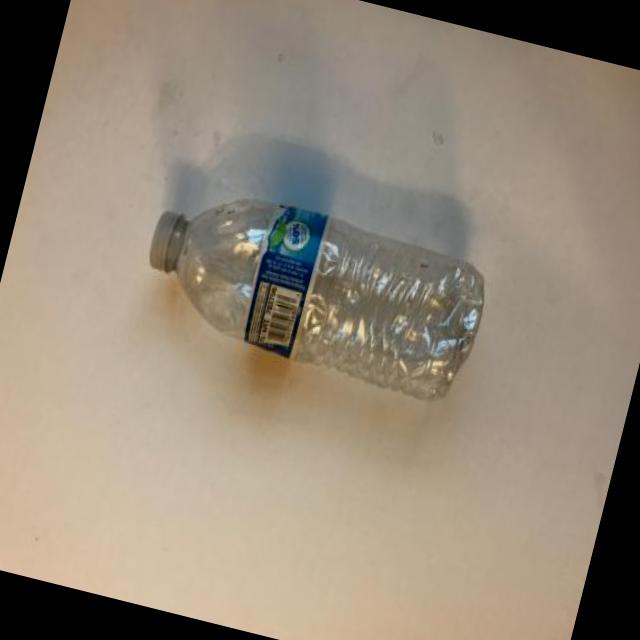Recycle: (126, 170, 500, 417)
